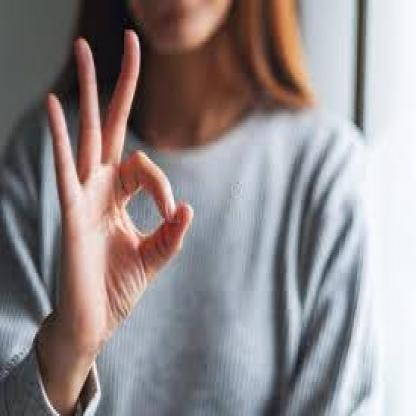ok: (42, 28, 194, 349)
